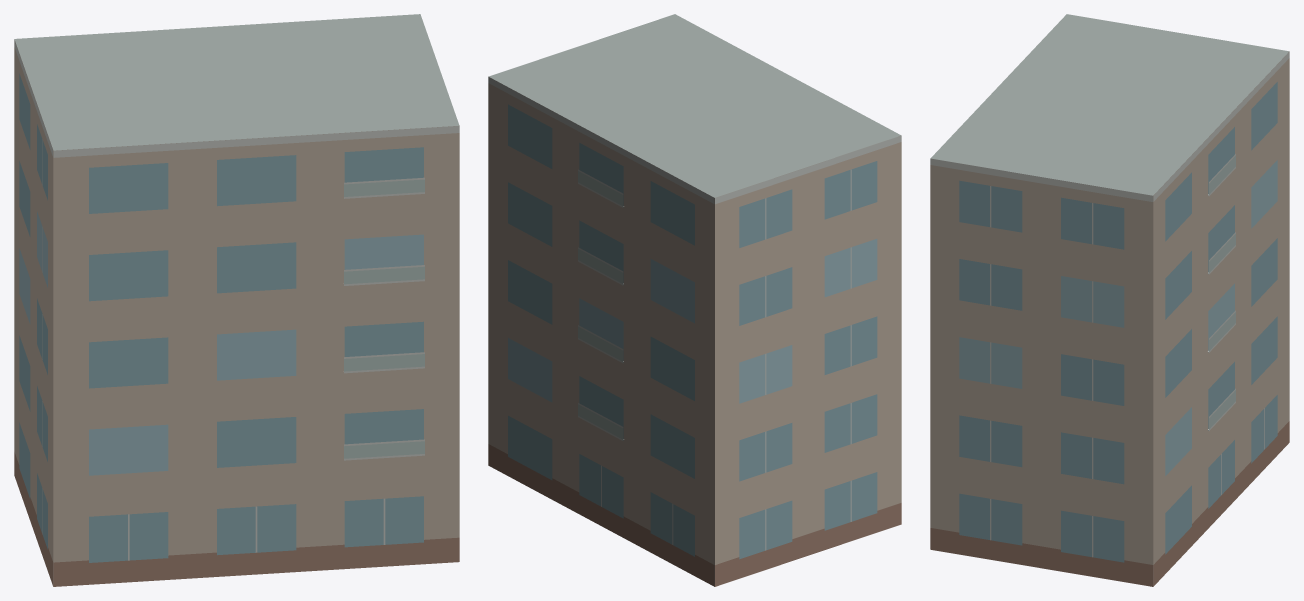
Rendered from survey-upis-33046614.glb.
3 renders of one model, left to right at view 1: azimuth 30°, elevation 25°; view 2: azimuth 150°, elevation 25°; view 3: azimuth 270°, elevation 25°, orthographic. The views are drawn at different scales.
Visible parts, largest first — view 1: survey-upis-33046614.tmp; view 2: survey-upis-33046614.tmp; view 3: survey-upis-33046614.tmp.
Boxes of the visible parts, x1,y1,x2,y2 form: survey-upis-33046614.tmp: [14, 14, 459, 586]; survey-upis-33046614.tmp: [488, 14, 901, 586]; survey-upis-33046614.tmp: [930, 14, 1289, 586].
Bounding box in the file's own units: 14.65 × 14.7 × 12.24.
